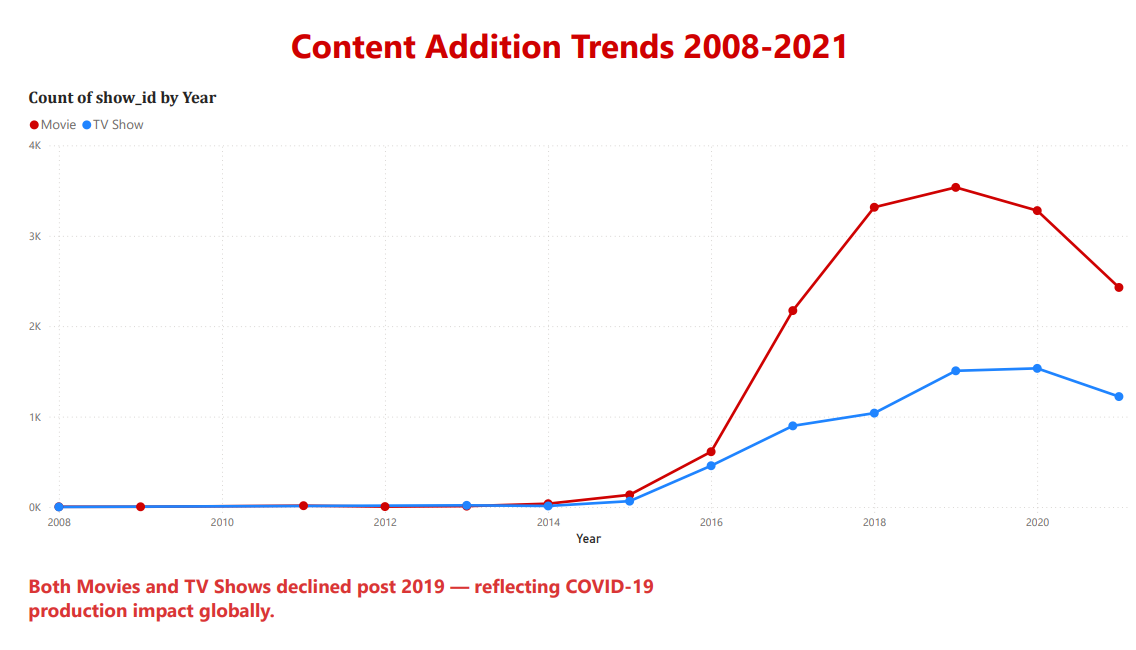

The dashboard page shown, as its layout file describes it:
{"tool":"powerbi","page":{"name":"Shows vs Movies","canvas":[1280,720],"ordinal":2},"visuals":[{"type":"lineChart","title":"Count of show_id by Year","fields":{"Category":["netflix_titles.date_added.Variation.Date Hierarchy.Year","netflix_titles.date_added.Variation.Date Hierarchy.Quarter","netflix_titles.date_added.Variation.Date Hierarchy.Month"],"Series":["netflix_titles.type"],"Y":["CountNonNull(netflix_titles.show_id)"]},"box":[19.6,89.3,1248.5,520.9],"z":0},{"type":"textbox","box":[255.6,12.2,766.7,66],"z":1000},{"type":"textbox","box":[19.6,628.5,716.6,67.3],"z":2000}]}

Visuals, with their boxes in screenshot pixels (x1, y1, x2, y2), scaled from the page's 1280x720 canvas onto the 1136x650 screenshot:
"Count of show_id by Year" lineChart: <region>17, 81, 1125, 551</region>
textbox: <region>227, 11, 907, 71</region>
textbox: <region>17, 567, 653, 628</region>
